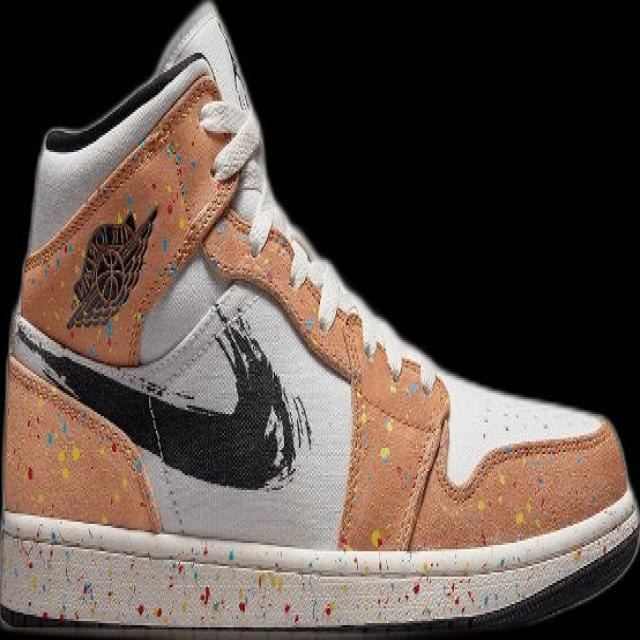J1_InsoleChar: (1, 1, 637, 635)
J1_ShoeLogo: (63, 202, 159, 332)
J1_StitchPattern: (3, 312, 636, 631), (2, 500, 637, 630), (23, 72, 252, 363), (10, 304, 312, 491), (4, 352, 162, 531), (334, 343, 451, 552), (207, 297, 314, 491)
